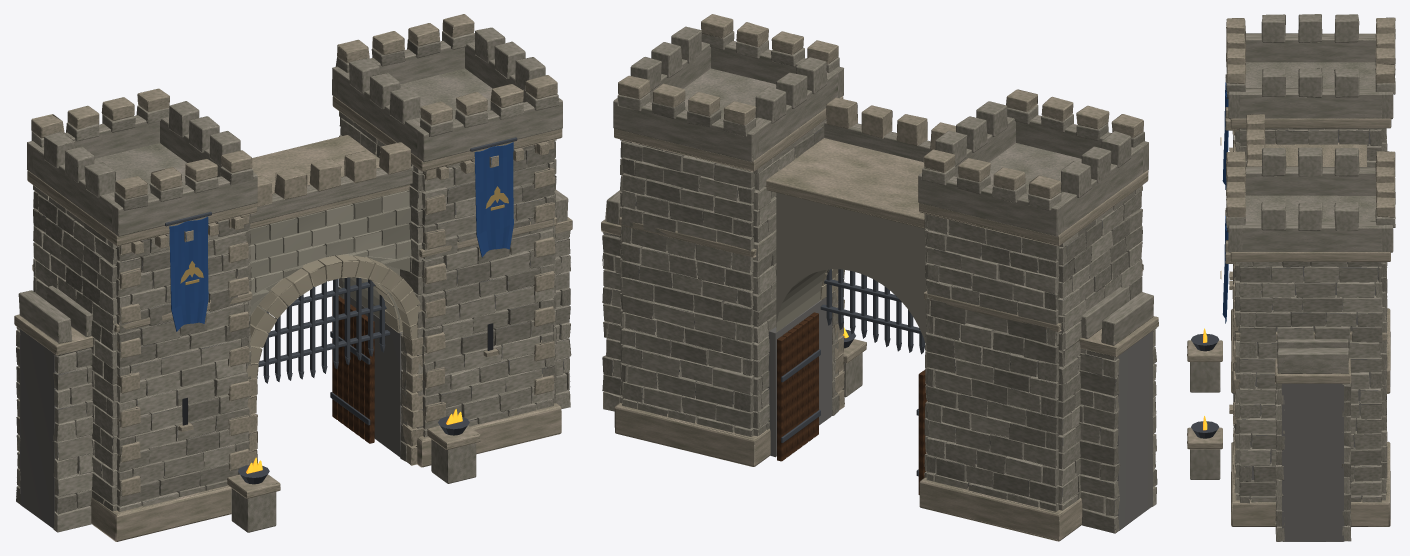
Rendered from ValoriaHeroGate_LOD1.glb.
3 views of the same model, side by side, from view 1: azimuth 30°, elevation 25°; view 2: azimuth 150°, elevation 25°; view 3: azimuth 270°, elevation 25° (orthographic). The views are drawn at different scales.
Parts seen in each view (by area): view 1: Battered tower foot, Tower front ashlar.002, Tower front ashlar.003, Tower front ashlar.001, Tower front ashlar, Tower front ashlar.027, Tower front ashlar.008, Tower structural core, Banner mounting bar, Royal blue Valoria banner, Open oak gate leaf; view 2: Tower front ashlar.002, Battered tower foot, Tower front ashlar.001, Tower front ashlar.003, Tower front ashlar.027, Tower front ashlar, Tower front ashlar.008, Tower structural core, Open oak gate leaf, Banner mounting bar; view 3: Tower front ashlar.002, Battered tower foot, Tower front ashlar.003, Tower structural core, Tower front ashlar.008, Tower front ashlar.027, Tower front ashlar, Tower front ashlar.001, Banner mounting bar, Royal blue Valoria banner.
Boxes of the visible parts, bbox=[...] form: Battered tower foot: bbox=[14, 14, 572, 541]; Tower front ashlar.002: bbox=[16, 27, 570, 483]; Tower front ashlar.003: bbox=[16, 68, 569, 532]; Tower front ashlar.001: bbox=[16, 39, 570, 514]; Tower front ashlar: bbox=[31, 101, 570, 532]; Tower front ashlar.027: bbox=[16, 31, 571, 479]; Tower front ashlar.008: bbox=[16, 117, 570, 508]; Tower structural core: bbox=[20, 151, 566, 528]; Banner mounting bar: bbox=[165, 137, 517, 484]; Royal blue Valoria banner: bbox=[169, 142, 513, 331]; Open oak gate leaf: bbox=[332, 296, 374, 443]; Tower front ashlar.002: bbox=[605, 26, 1156, 515]; Battered tower foot: bbox=[601, 14, 1158, 541]; Tower front ashlar.001: bbox=[602, 101, 1157, 535]; Tower front ashlar.003: bbox=[603, 68, 1156, 516]; Tower front ashlar.027: bbox=[602, 31, 1156, 513]; Tower front ashlar: bbox=[603, 38, 1156, 506]; Tower front ashlar.008: bbox=[602, 141, 1156, 533]; Tower structural core: bbox=[606, 127, 1152, 530]; Open oak gate leaf: bbox=[777, 312, 927, 494]; Banner mounting bar: bbox=[781, 269, 924, 476]; Tower front ashlar.002: bbox=[1226, 14, 1395, 534]; Battered tower foot: bbox=[1187, 17, 1395, 526]; Tower front ashlar.003: bbox=[1190, 52, 1395, 524]; Tower structural core: bbox=[1242, 129, 1379, 541]; Tower front ashlar.008: bbox=[1234, 128, 1387, 503]; Tower front ashlar.027: bbox=[1226, 60, 1395, 541]; Tower front ashlar: bbox=[1226, 29, 1395, 541]; Tower front ashlar.001: bbox=[1234, 31, 1395, 526]; Banner mounting bar: bbox=[1191, 94, 1228, 438]; Royal blue Valoria banner: bbox=[1222, 82, 1228, 323].
Bounding box in the file's own units: 11.58 × 7.64 × 4.52.
14 materials, 8 textured.
